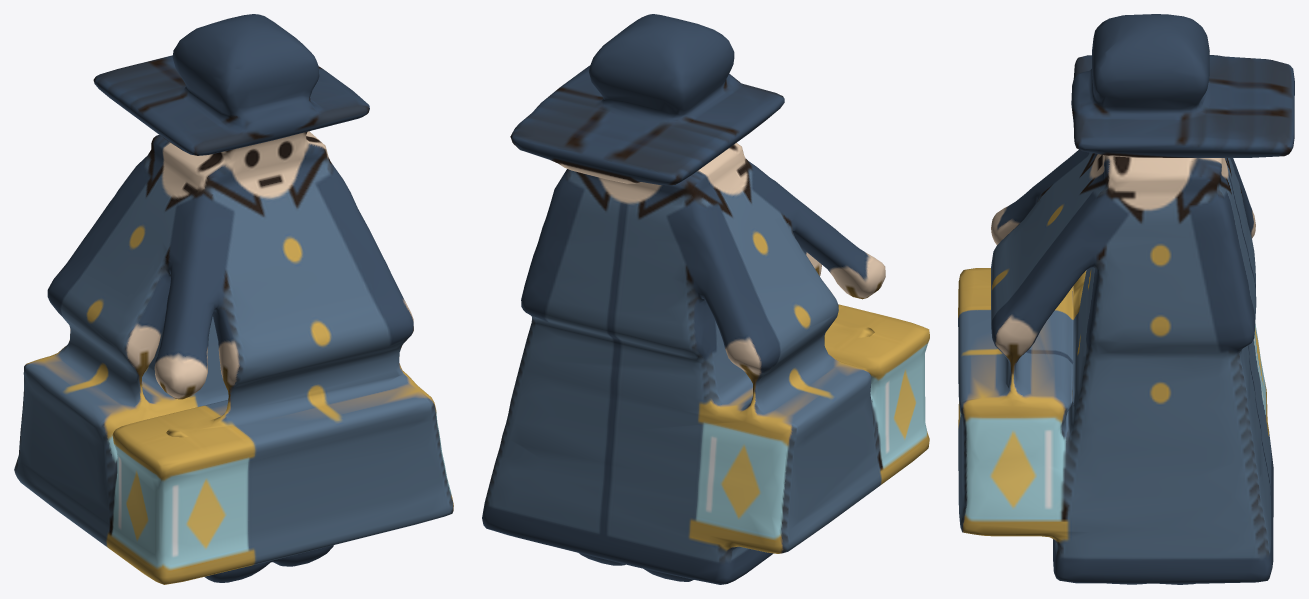
The model's file is Ward.fbx.
3 renders of one model, left to right at view 1: azimuth 30°, elevation 25°; view 2: azimuth 150°, elevation 25°; view 3: azimuth 270°, elevation 25°, orthographic.
Visible parts, largest first — view 1: Ward; view 2: Ward; view 3: Ward.
Part boxes in pixels (x1,y1,x2,y2): Ward: (14,14,453,584); Ward: (482,14,929,584); Ward: (958,14,1294,584).
Bounding box in the file's own units: 239 × 400 × 225.
1 material, 1 textured.
